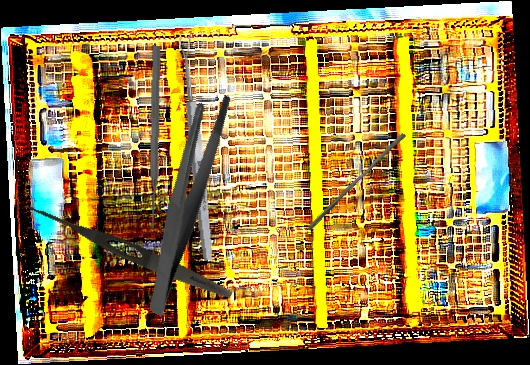Dressing Forceps: (94, 85, 277, 318), (23, 199, 235, 304)
Pusher: (306, 129, 407, 235), (146, 45, 163, 229)
Surgical Spoon: (177, 35, 216, 262)
